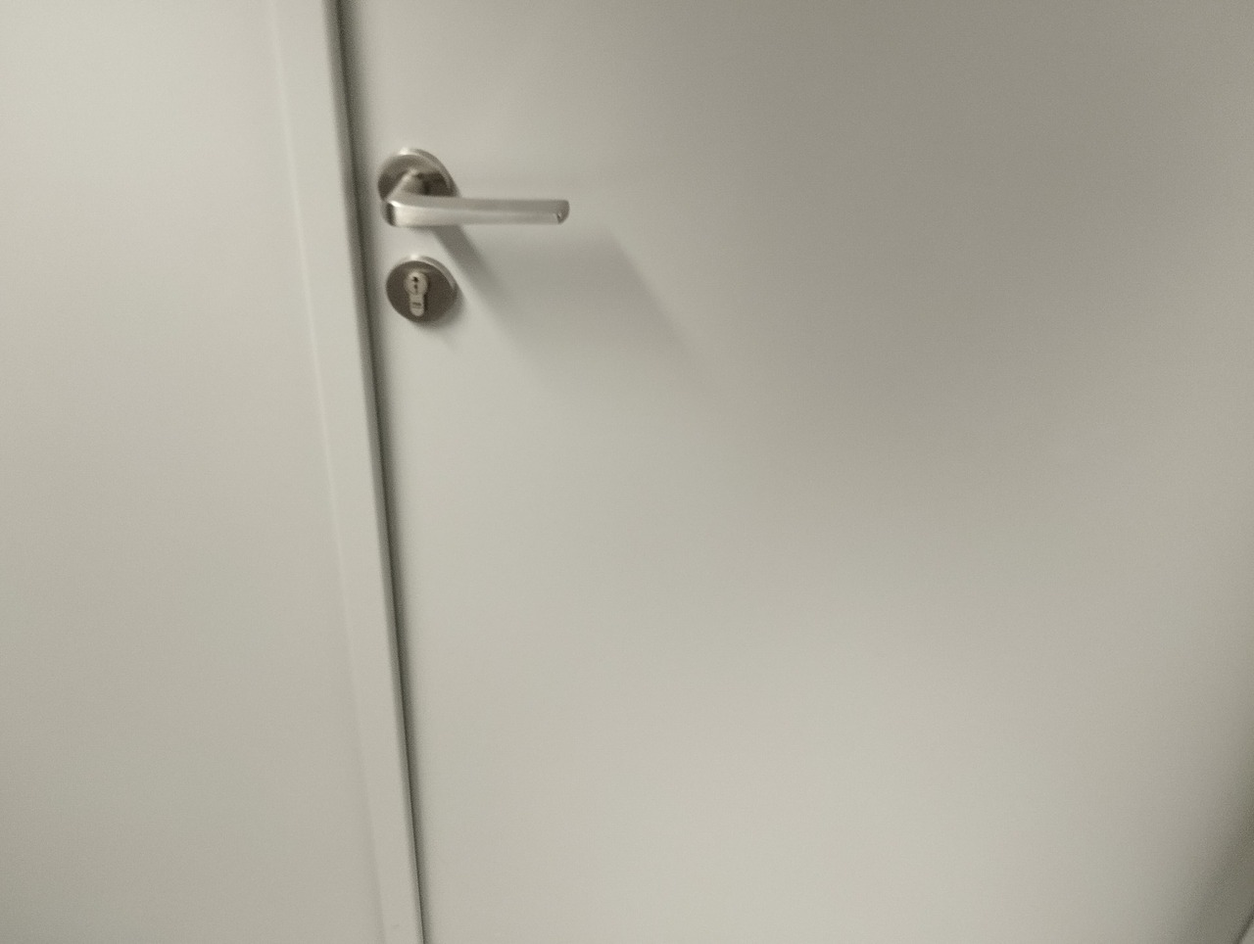Door-handle: (363, 143, 593, 245)
